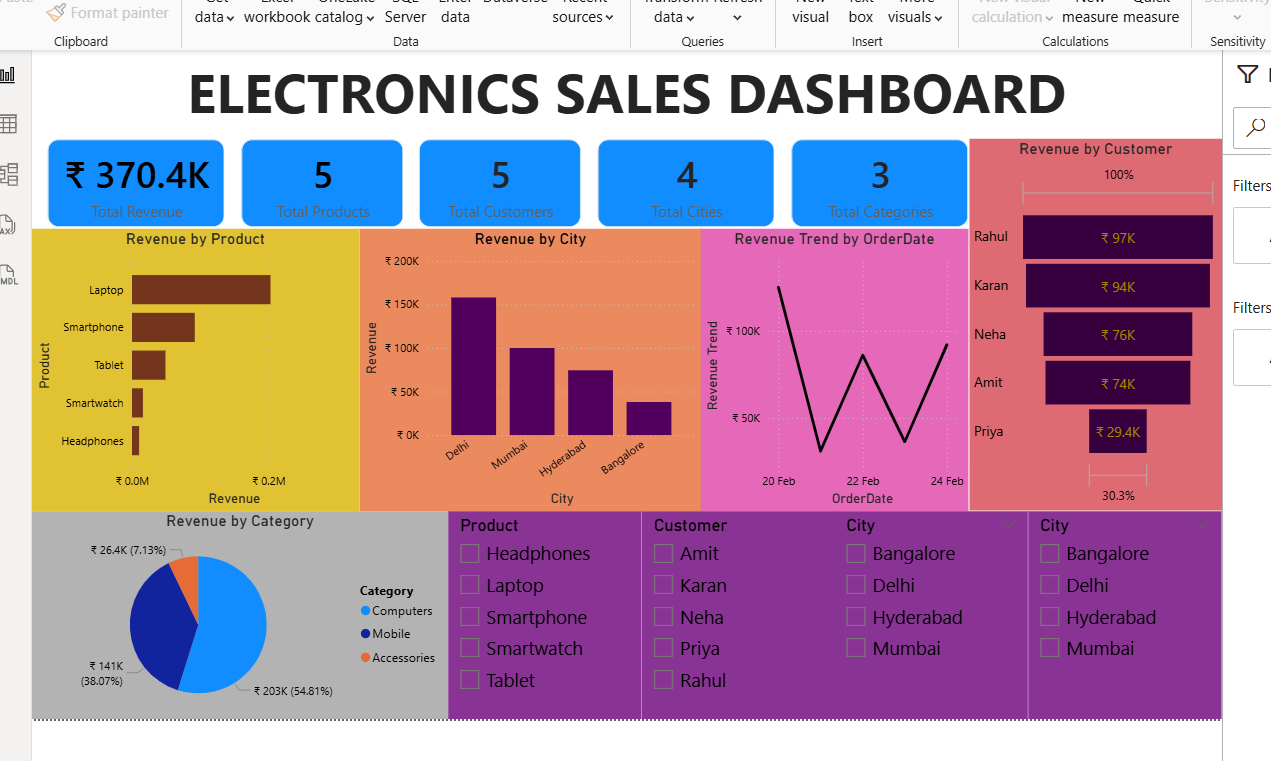

The page's visual inventory and layout, read from the dashboard file:
{"tool":"powerbi","page":{"name":"Page 1","canvas":[1280,720],"ordinal":0},"visuals":[{"type":"cardVisual","fields":{"Data":["Sum(Dataset.Revenue)"]},"box":[0,80,224,128],"z":0},{"type":"cardVisual","fields":{"Data":["Count(Dataset.Product)"]},"box":[208,80,208,128],"z":1},{"type":"cardVisual","fields":{"Data":["Count(Dataset.Customer)"]},"box":[400,80,208,128],"z":2},{"type":"cardVisual","fields":{"Data":["Count(Dataset.City)"]},"box":[592,80,224,128],"z":3},{"type":"cardVisual","fields":{"Data":["Count(Dataset.Category)"]},"box":[800,80,224,128],"z":4},{"type":"textbox","box":[0,0,1280,96],"z":5},{"type":"barChart","fields":{"Category":["Dataset.Product"],"Y":["Sum(Dataset.Revenue)"]},"box":[0,192,352,304],"z":6},{"type":"columnChart","fields":{"Category":["Dataset.City"],"Y":["Sum(Dataset.Revenue)"]},"box":[352,192,368,304],"z":7},{"type":"pieChart","fields":{"Category":["Dataset.Category"],"Y":["Sum(Dataset.Revenue)"]},"box":[0,496,448,224],"z":8},{"type":"lineChart","fields":{"Category":["Dataset.OrderDate"],"Y":["Sum(Dataset.Revenue)"]},"box":[720,192,288,304],"z":9},{"type":"funnel","fields":{"Category":["Dataset.Customer"],"Y":["Sum(Dataset.Revenue)"]},"box":[1008,96,272,400],"z":10},{"type":"slicer","fields":{"Values":["Dataset.City"]},"box":[864,496,208,224],"z":11},{"type":"slicer","fields":{"Values":["Dataset.Customer"]},"box":[656,496,208,224],"z":12},{"type":"slicer","fields":{"Values":["Dataset.Product"]},"box":[448,496,208,224],"z":13},{"type":"slicer","fields":{"Values":["Dataset.City"]},"box":[1072,496,208,224],"z":14}]}

Visuals, with their boxes on the page's 1280x720 design canvas (x1, y1, x2, y2). These are canvas units, not pixel positions in the 1271x761 screenshot, which may show the page scaled, cropped or inside an application window:
cardVisual - Sum(Dataset.Revenue): 0/80/224/208
cardVisual - Count(Dataset.Product): 208/80/416/208
cardVisual - Count(Dataset.Customer): 400/80/608/208
cardVisual - Count(Dataset.City): 592/80/816/208
cardVisual - Count(Dataset.Category): 800/80/1024/208
textbox: 0/0/1280/96
barChart - Dataset.Product x Sum(Dataset.Revenue): 0/192/352/496
columnChart - Dataset.City x Sum(Dataset.Revenue): 352/192/720/496
pieChart - Dataset.Category x Sum(Dataset.Revenue): 0/496/448/720
lineChart - Dataset.OrderDate x Sum(Dataset.Revenue): 720/192/1008/496
funnel - Dataset.Customer x Sum(Dataset.Revenue): 1008/96/1280/496
slicer - Dataset.City: 864/496/1072/720
slicer - Dataset.Customer: 656/496/864/720
slicer - Dataset.Product: 448/496/656/720
slicer - Dataset.City: 1072/496/1280/720
